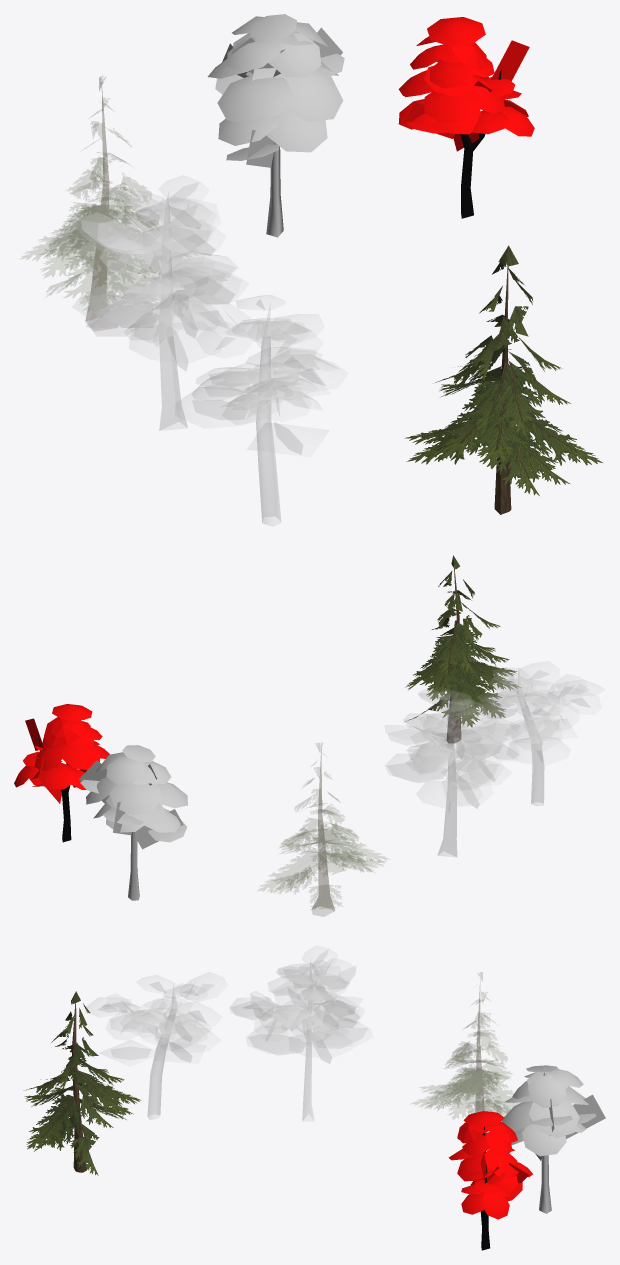
The model's file is Low poly tree.fbx.
3 renders of one model, top to bottom at view 1: azimuth 30°, elevation 25°; view 2: azimuth 150°, elevation 25°; view 3: azimuth 270°, elevation 25°, orthographic. The views are drawn at different scales.
Parts seen in each view (by area): view 1: Oak-1, Oak-2, Birch-2, Pine-1, Birch-1, Pine-2; view 2: Oak-1, Oak-2, Birch-2, Pine-1, Pine-2, Birch-1; view 3: Oak-1, Oak-2, Pine-1, Birch-2, Birch-1, Pine-2.
Boxes of the visible parts, x1=… form: Oak-1: x1=72, y1=175, x2=248, y2=430; Oak-2: x1=175, y1=294, x2=347, y2=526; Birch-2: x1=207, y1=14, x2=344, y2=237; Pine-1: x1=404, y1=245, x2=602, y2=514; Birch-1: x1=398, y1=17, x2=534, y2=218; Pine-2: x1=21, y1=76, x2=158, y2=330; Oak-1: x1=385, y1=689, x2=519, y2=857; Oak-2: x1=477, y1=661, x2=604, y2=805; Birch-2: x1=79, y1=745, x2=187, y2=900; Pine-1: x1=405, y1=555, x2=520, y2=743; Pine-2: x1=259, y1=743, x2=387, y2=916; Birch-1: x1=14, y1=704, x2=109, y2=842; Oak-1: x1=229, y1=946, x2=372, y2=1120; Oak-2: x1=86, y1=972, x2=227, y2=1119; Pine-1: x1=23, y1=991, x2=141, y2=1175; Birch-2: x1=502, y1=1065, x2=605, y2=1213; Birch-1: x1=448, y1=1111, x2=532, y2=1250; Pine-2: x1=412, y1=972, x2=519, y2=1132.
Size of the model in its own units: 16.73 by 7.68 by 22.1.
